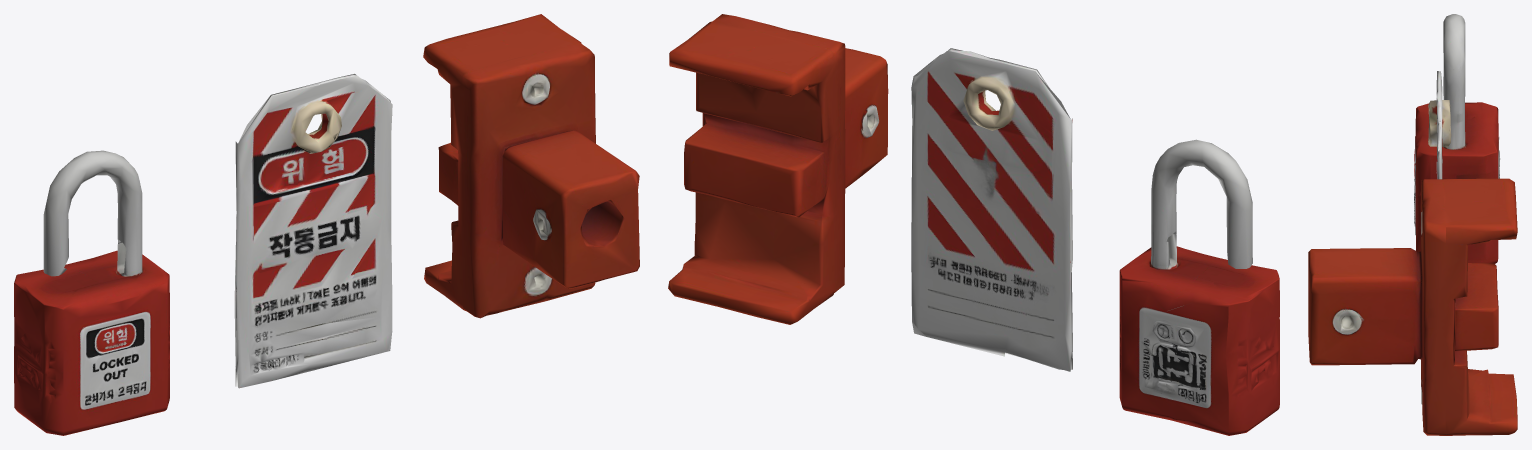
File: red_lockout_padlock_3d_model.fbx
3 renders of one model, left to right at view 1: azimuth 30°, elevation 25°; view 2: azimuth 150°, elevation 25°; view 3: azimuth 270°, elevation 25°, orthographic. The views are drawn at different scales.
Visible parts, largest first — view 1: tripo_node_4bed8b58; view 2: tripo_node_4bed8b58; view 3: tripo_node_4bed8b58.
Part boxes in pixels (<box>): tripo_node_4bed8b58: <box>14,14,639,435</box>; tripo_node_4bed8b58: <box>668,14,1279,435</box>; tripo_node_4bed8b58: <box>1308,14,1517,435</box>.
Bounding box in the file's own units: 0.9783 × 0.4884 × 0.3693.
